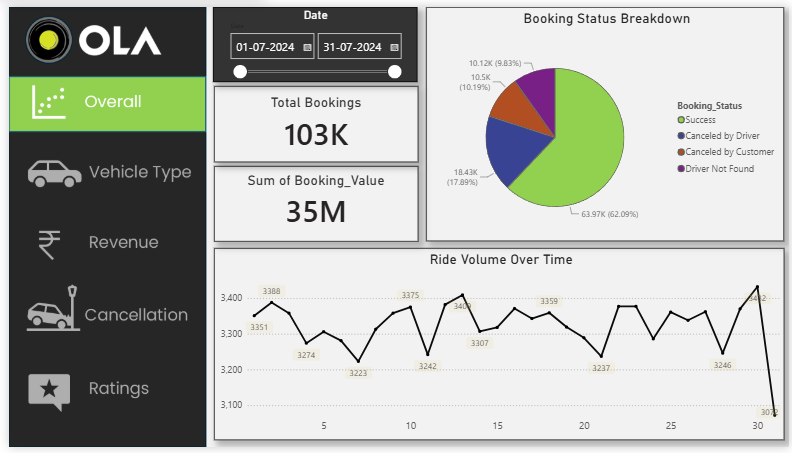

Layout of this report page (visuals, bound fields, positions):
{"tool":"powerbi","page":{"name":"Overall","canvas":[1280,720],"ordinal":0},"visuals":[{"type":"actionButton","box":[0,223.2,324,92.2],"z":0},{"type":"actionButton","box":[0,338.4,324,90.7],"z":1000},{"type":"actionButton","box":[0,445,324,92.2],"z":2000},{"type":"actionButton","box":[0,573.1,324,92.2],"z":3000},{"type":"lineChart","title":"Ride Volume Over Time","fields":{"Category":["Bookings2.Date.Variation.Date Hierarchy.Day"],"Y":["CountNonNull(Bookings2.Booking_ID)"]},"box":[335.3,395.6,935.3,314.7],"z":4000},{"type":"pieChart","title":"Booking Status Breakdown","fields":{"Category":["Bookings2.Booking_Status"],"Y":["CountNonNull(Bookings2.Booking_Status)"]},"box":[683.8,0,586.8,383.8],"z":5000},{"type":"cardVisual","title":"Booking Status Breakdown","fields":{"Data":["CountNonNull(Bookings2.Booking_ID)"]},"box":[335.3,129.4,335.3,125],"z":6000},{"type":"cardVisual","title":"Booking Status Breakdown","fields":{"Data":["Sum(Bookings2.Booking_Value)"]},"box":[335.3,260.3,335.3,123.5],"z":7000},{"type":"slicer","title":"Date","fields":{"Values":["Bookings2.Date"]},"box":[335,0,335,123],"z":8002}]}

Visuals, with their boxes in screenshot pixels (x1, y1, x2, y2), scaled from the page's 1280x720 canvas onto the 792x453 screenshot:
actionButton: (0, 140, 200, 198)
actionButton: (0, 213, 200, 270)
actionButton: (0, 280, 200, 338)
actionButton: (0, 361, 200, 419)
"Ride Volume Over Time" lineChart: (207, 249, 786, 447)
"Booking Status Breakdown" pieChart: (423, 0, 786, 241)
"Booking Status Breakdown" cardVisual: (207, 81, 415, 160)
"Booking Status Breakdown" cardVisual: (207, 164, 415, 241)
"Date" slicer: (207, 0, 415, 77)
